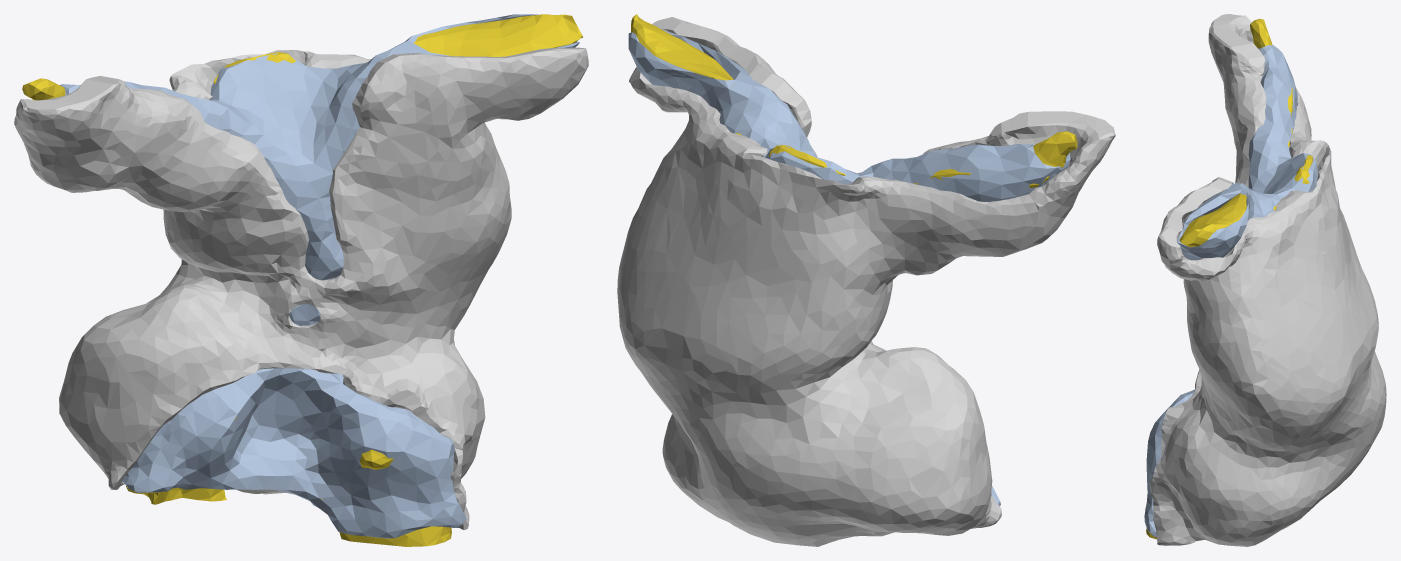
The model's file is CS10 - Heart.fbx.
3 renders of one model, left to right at view 1: azimuth 30°, elevation 25°; view 2: azimuth 150°, elevation 25°; view 3: azimuth 270°, elevation 25°, orthographic. The views are drawn at different scales.
Visible parts, largest first — view 1: Myocardium, Cardiac Jelly, Heart lumen; view 2: Myocardium, Cardiac Jelly, Heart lumen; view 3: Myocardium, Cardiac Jelly, Heart lumen.
Boxes of the visible parts, box(x1,y1,x2,y2) form: Myocardium: box(14, 47, 588, 529); Cardiac Jelly: box(60, 14, 579, 538); Heart lumen: box(22, 14, 582, 546); Myocardium: box(617, 17, 1115, 546); Cardiac Jelly: box(628, 28, 1070, 506); Heart lumen: box(631, 14, 1077, 187); Myocardium: box(1149, 14, 1386, 546); Cardiac Jelly: box(1144, 41, 1318, 537); Heart lumen: box(1146, 19, 1312, 539).
Size of the model in its own units: 5.69 by 2.86 by 5.04.
